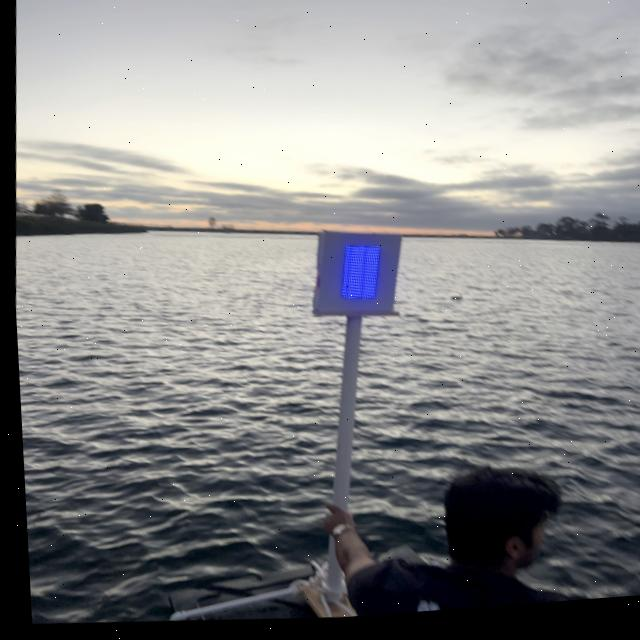led: (315, 232, 395, 328)
